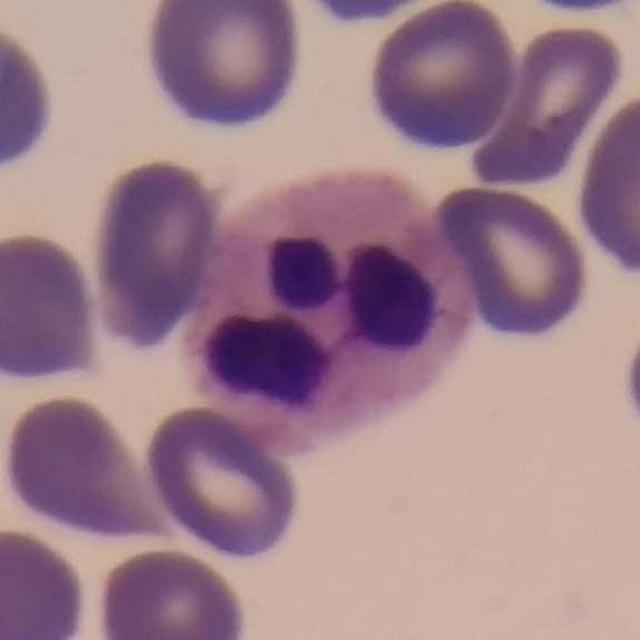Neutrophil: (169, 151, 476, 460)
RBC: (461, 19, 632, 192), (425, 180, 596, 344), (87, 152, 226, 353), (139, 401, 306, 564), (0, 388, 168, 546), (363, 0, 522, 156), (139, 0, 310, 137), (0, 227, 106, 390), (91, 543, 252, 640), (572, 88, 640, 282), (0, 522, 92, 640), (0, 15, 61, 182), (298, 0, 425, 32), (618, 342, 640, 413)
